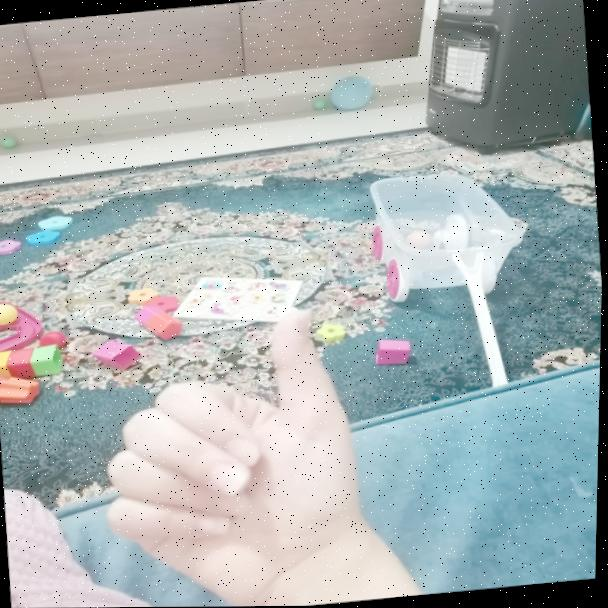five: (90, 301, 372, 584)
